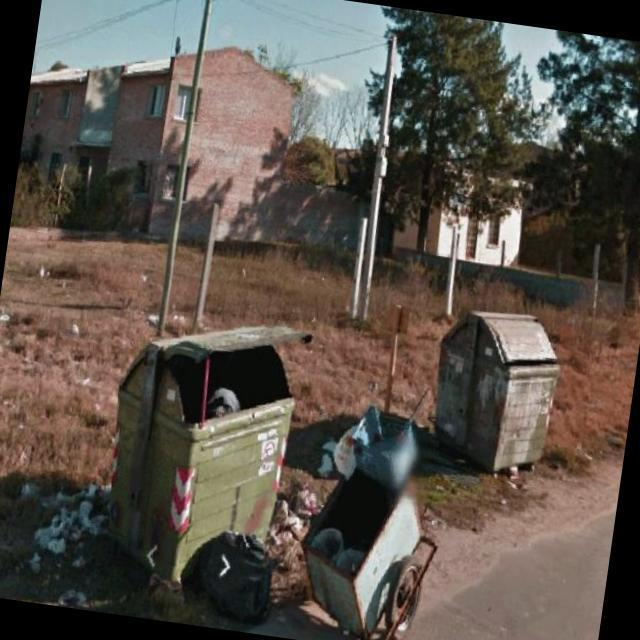garbage: (0, 397, 167, 617), (184, 384, 360, 548), (184, 509, 301, 634)
